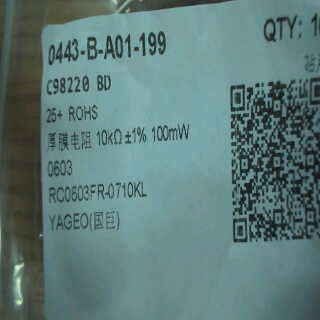10kR: (94, 125, 125, 148)
